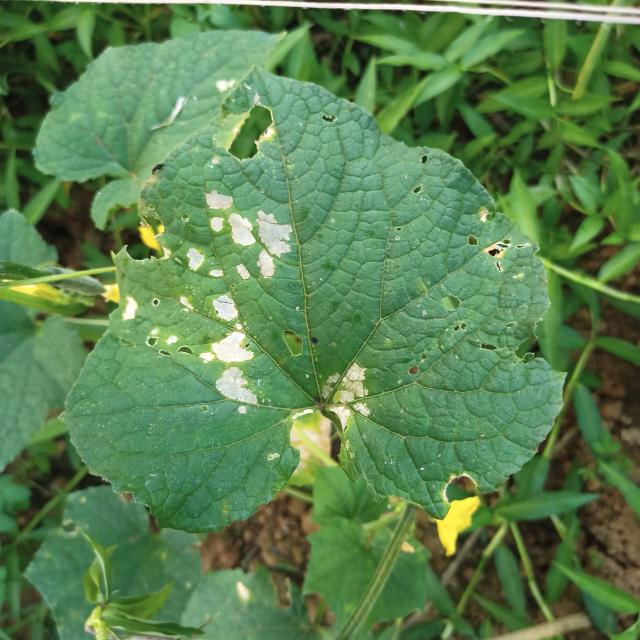disease_cucumber: (176, 167, 296, 417), (320, 355, 387, 438)
